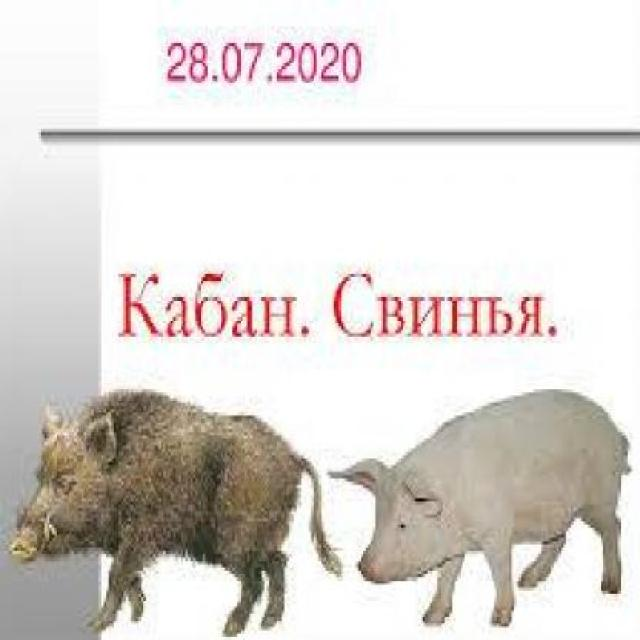wildboar: (9, 375, 340, 640), (323, 375, 637, 640)
